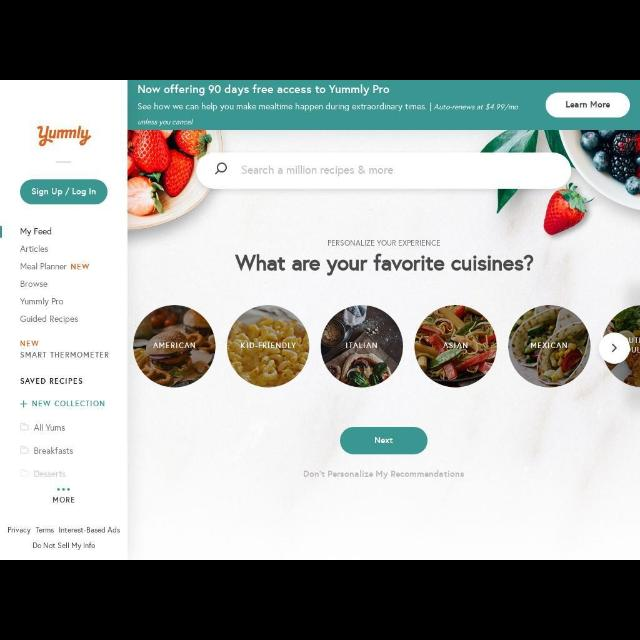backgroundimage: (506, 307, 594, 389), (321, 306, 407, 388), (133, 306, 217, 388), (228, 306, 310, 390), (416, 306, 498, 389), (604, 307, 638, 387)
button: (600, 334, 628, 364)
icon: (214, 164, 228, 176), (20, 397, 32, 409), (19, 422, 31, 434), (17, 444, 31, 454), (20, 466, 28, 480), (610, 343, 618, 353)
iframe: (130, 82, 638, 132)
image: (36, 122, 90, 146)
input: (198, 156, 570, 192)
panel: (2, 82, 128, 560)
text: (136, 101, 522, 127), (234, 252, 534, 274), (136, 85, 392, 95), (241, 165, 393, 179), (304, 470, 464, 480), (325, 237, 441, 247), (31, 186, 97, 198), (33, 398, 107, 408), (20, 351, 108, 359), (20, 376, 82, 386), (20, 314, 80, 324), (22, 262, 92, 270), (242, 340, 296, 350), (32, 542, 94, 550), (34, 444, 74, 456), (19, 296, 63, 306), (566, 101, 610, 111), (154, 342, 196, 352), (530, 341, 570, 351), (21, 224, 53, 236), (59, 527, 122, 533), (34, 422, 66, 433), (344, 341, 378, 351), (34, 470, 66, 480), (443, 340, 467, 350), (53, 494, 75, 504), (372, 434, 394, 444), (22, 246, 48, 254), (22, 280, 48, 288), (628, 338, 640, 354), (7, 526, 30, 534), (36, 526, 56, 534), (21, 339, 39, 347)
textbutton: (340, 426, 428, 456), (19, 180, 109, 204), (546, 94, 628, 118)
